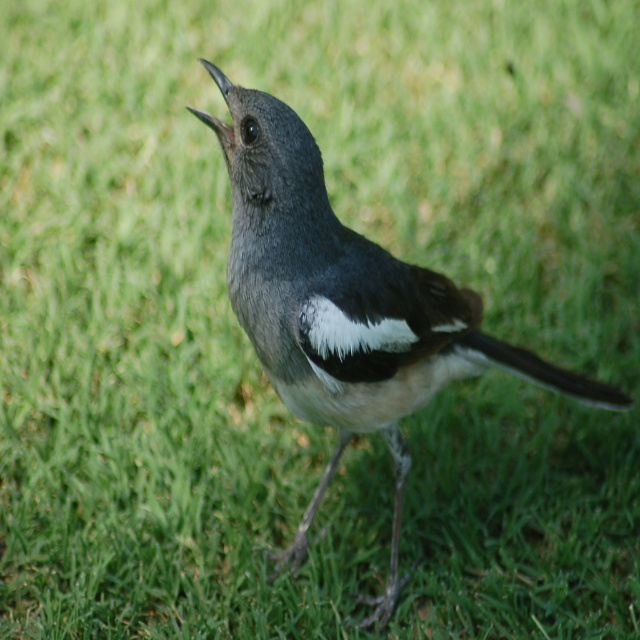Magpie: (182, 58, 634, 630)
